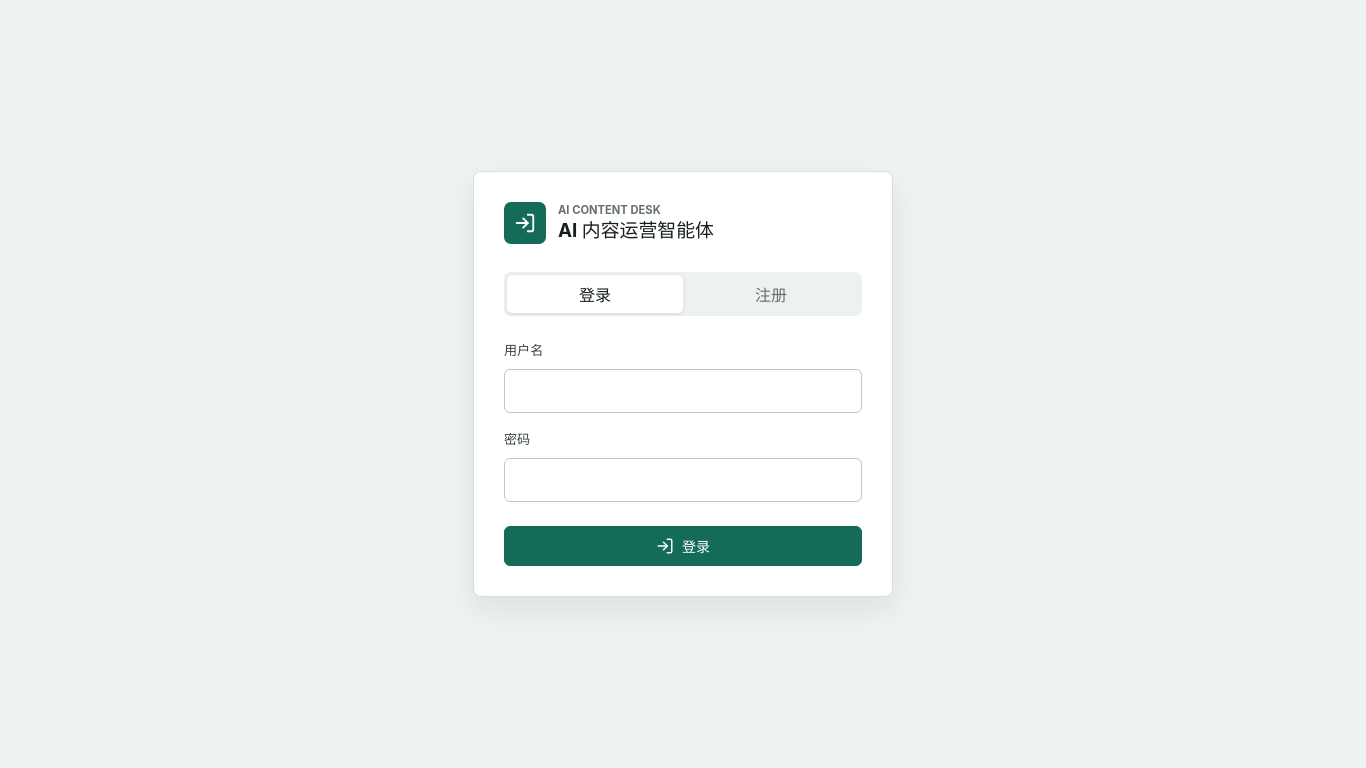
Test: authentication lifecycle › logs in, verifies /auth/me, and clears a previous user's thread
Type "phase6_user_b" into the field labelled "用户名".
click(683, 391); type("phase6_user_b")  # box [504,369,862,413]
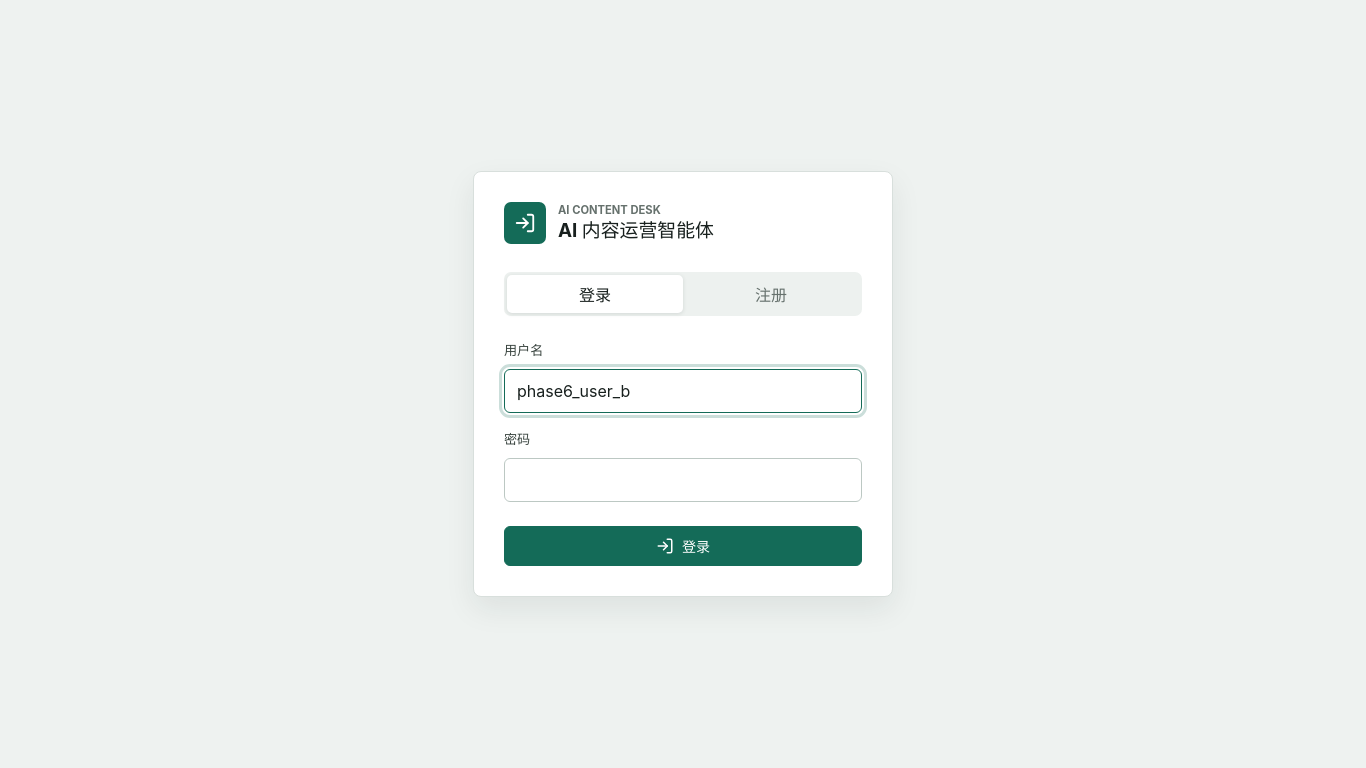
Type "user-b-password" into the password field labelled "密码".
click(683, 480); type("user-b-password")  # box [504,458,862,502]
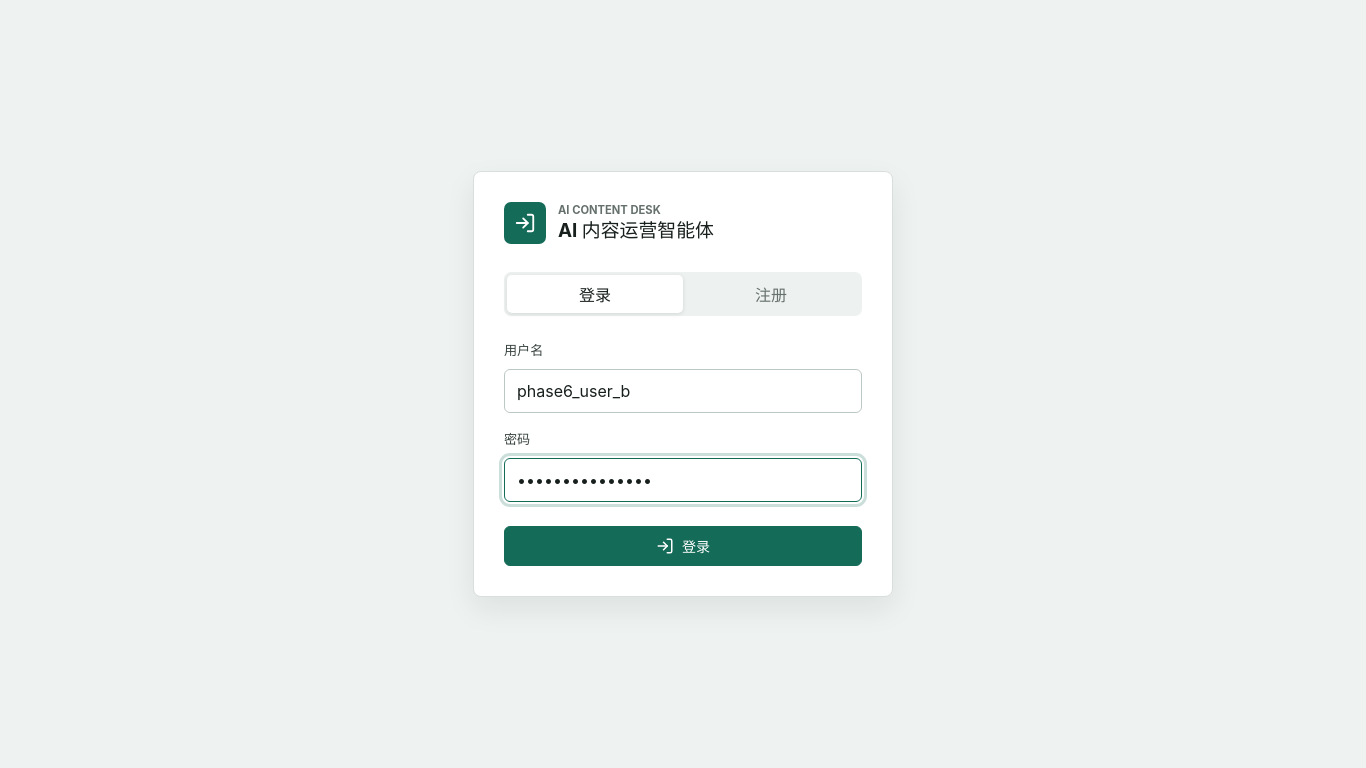
Click the button "登录".
click(683, 546)  # box [504,526,862,566]
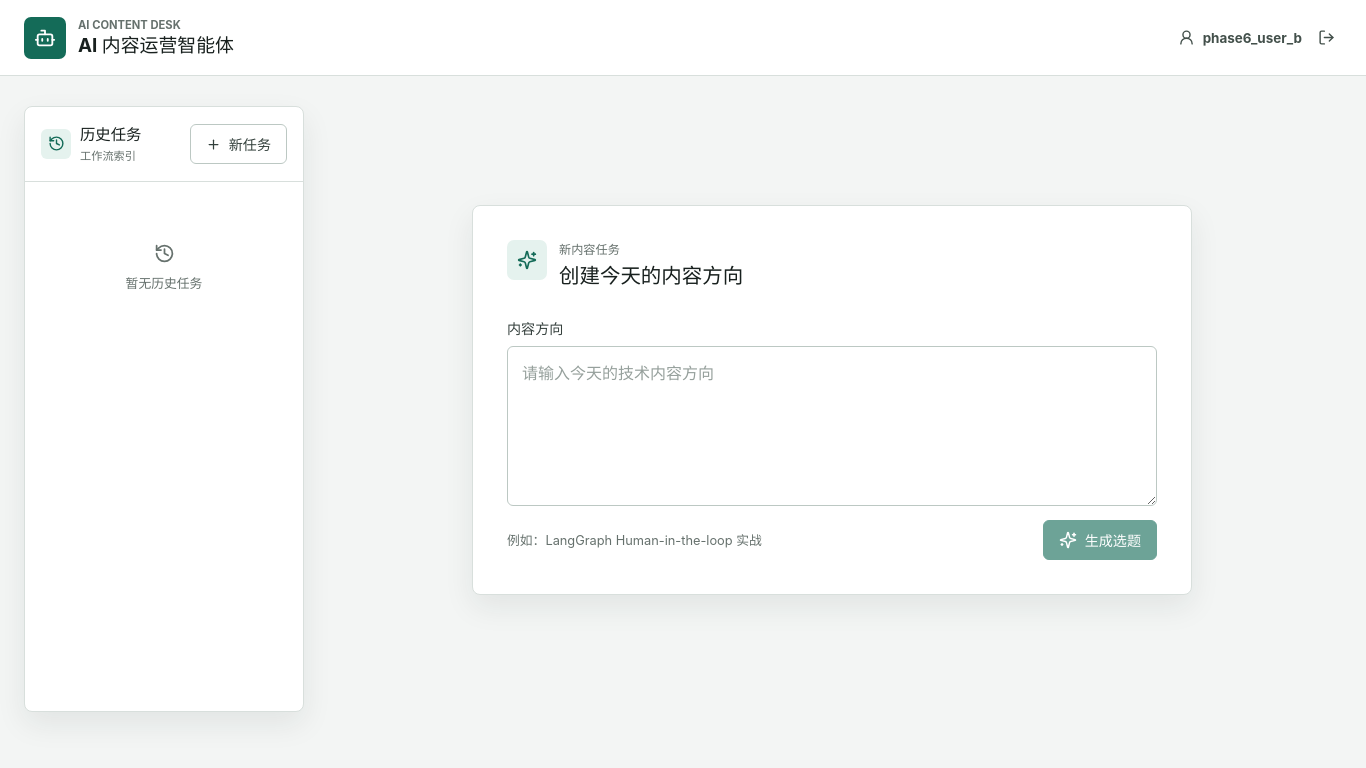
Expected: the text "phase6_user_b" is shown, [1203,30,1302,46]
